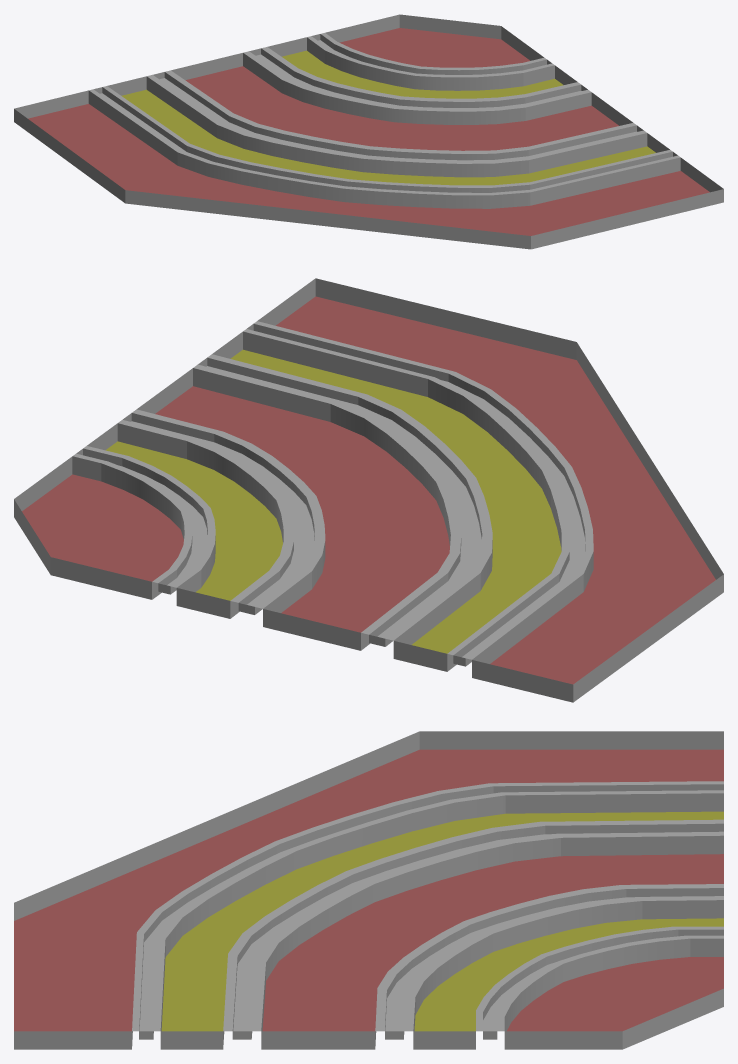
File: CeilingCornerLeft.fbx
3 renders of one model, top to bottom at view 1: azimuth 30°, elevation 25°; view 2: azimuth 150°, elevation 25°; view 3: azimuth 270°, elevation 25°, orthographic. The views are drawn at different scales.
Visible parts, largest first — view 1: CeilingCornerLeft; view 2: CeilingCornerLeft; view 3: CeilingCornerLeft.
Boxes of the visible parts, x1,y1,x2,y2 form: CeilingCornerLeft: (14, 14, 723, 249); CeilingCornerLeft: (14, 278, 723, 702); CeilingCornerLeft: (14, 731, 723, 1049).
Bounding box in the file's own units: 700 × 19.94 × 700.
